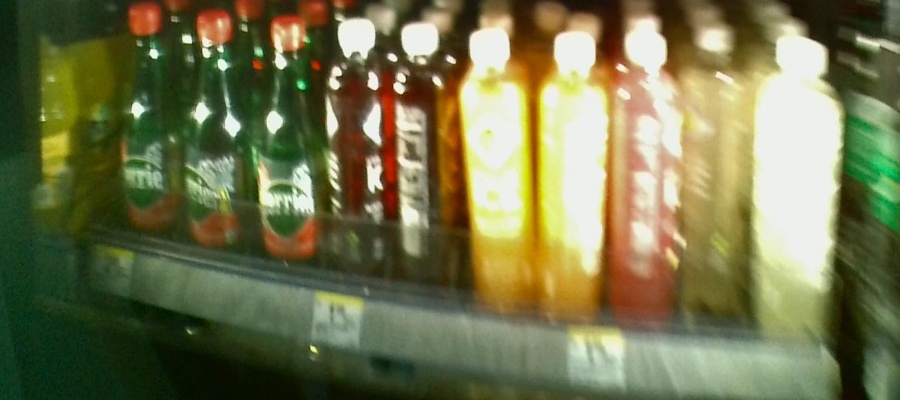bottle: (754, 37, 830, 346), (462, 29, 536, 324), (540, 18, 610, 327), (615, 34, 685, 320), (393, 10, 458, 296), (322, 17, 389, 280), (689, 21, 745, 329), (253, 15, 318, 270), (115, 7, 180, 240), (185, 16, 247, 253)
